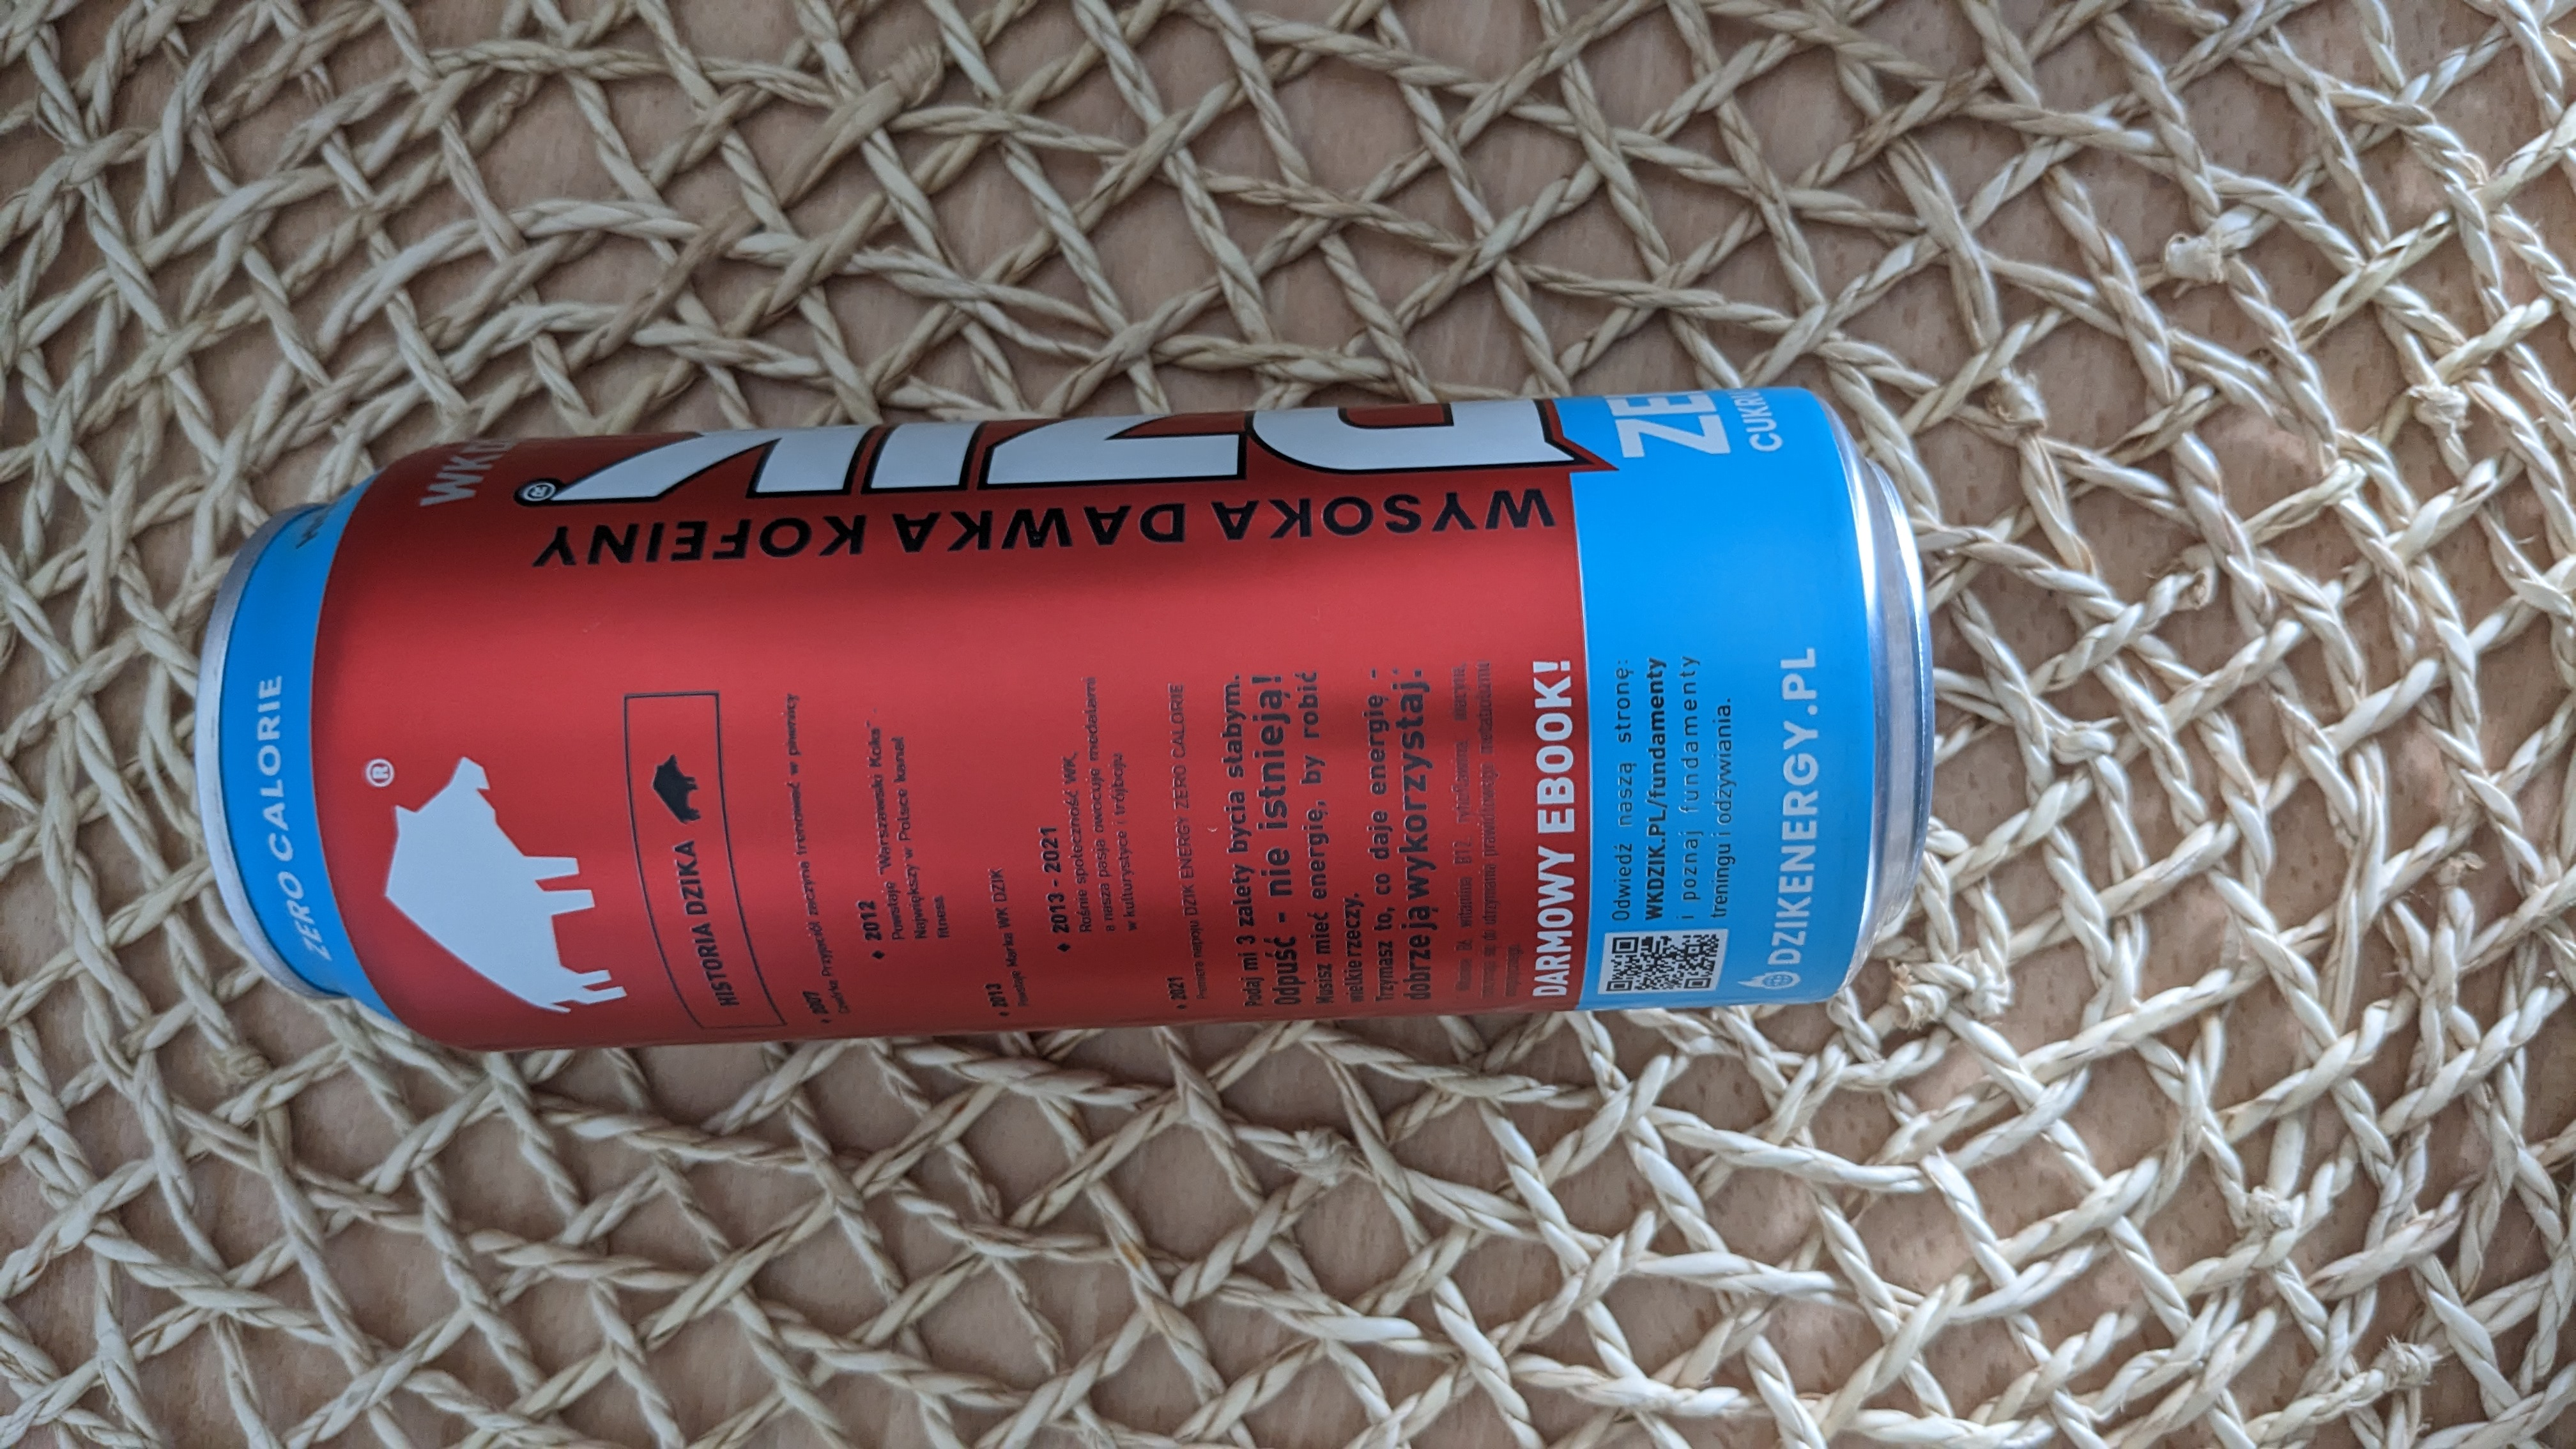dzik: (170, 386, 1967, 1053)
